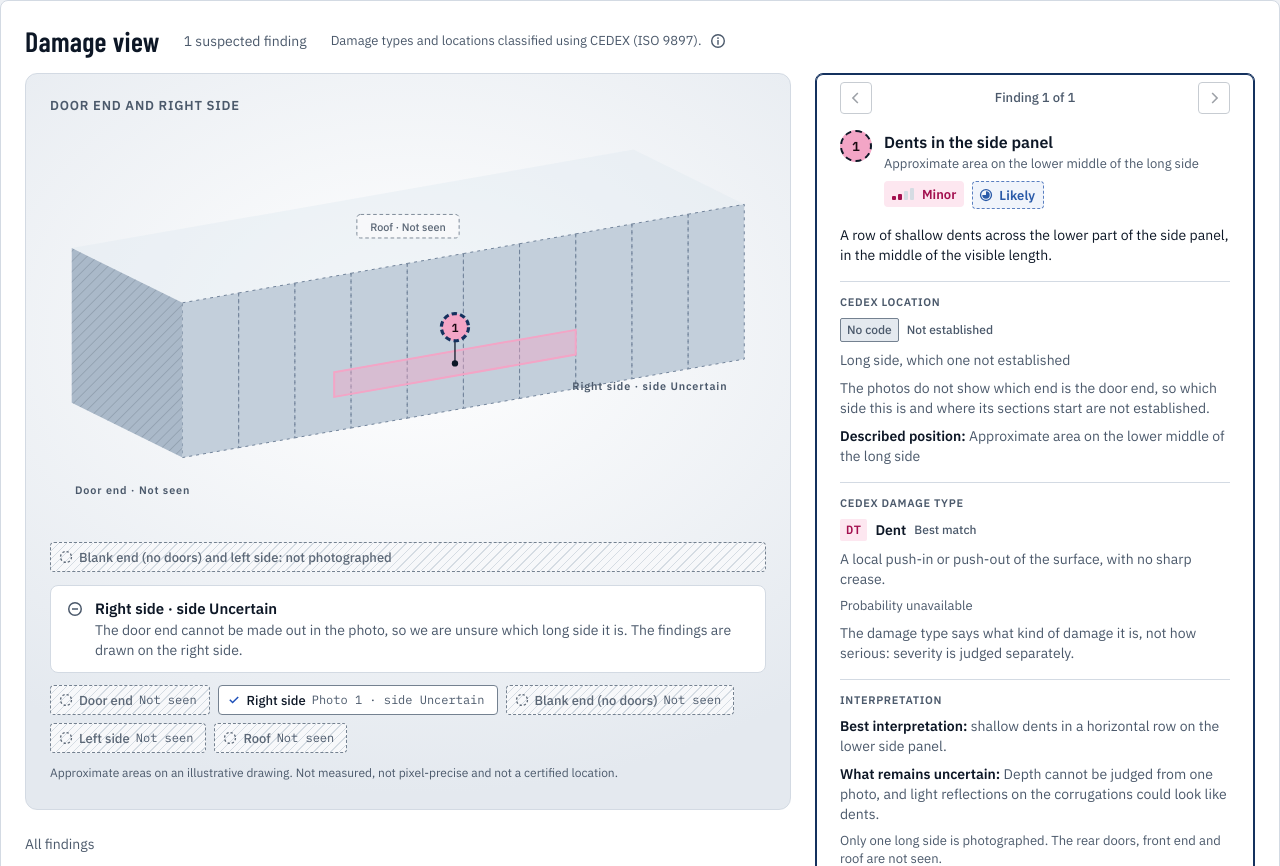
Scenario: DamageView schematic › names CEDEX near the findings count, with an explanation behind the info button
This screenshot has width=1280, height=866.
Expected: the element with class "rs-damage__head" shows "Damage types and locations classified using CEDEX (ISO 9897).", [331,32,702,49]
Click the button named "About CEDEX": (718, 41) [706,29,730,53]
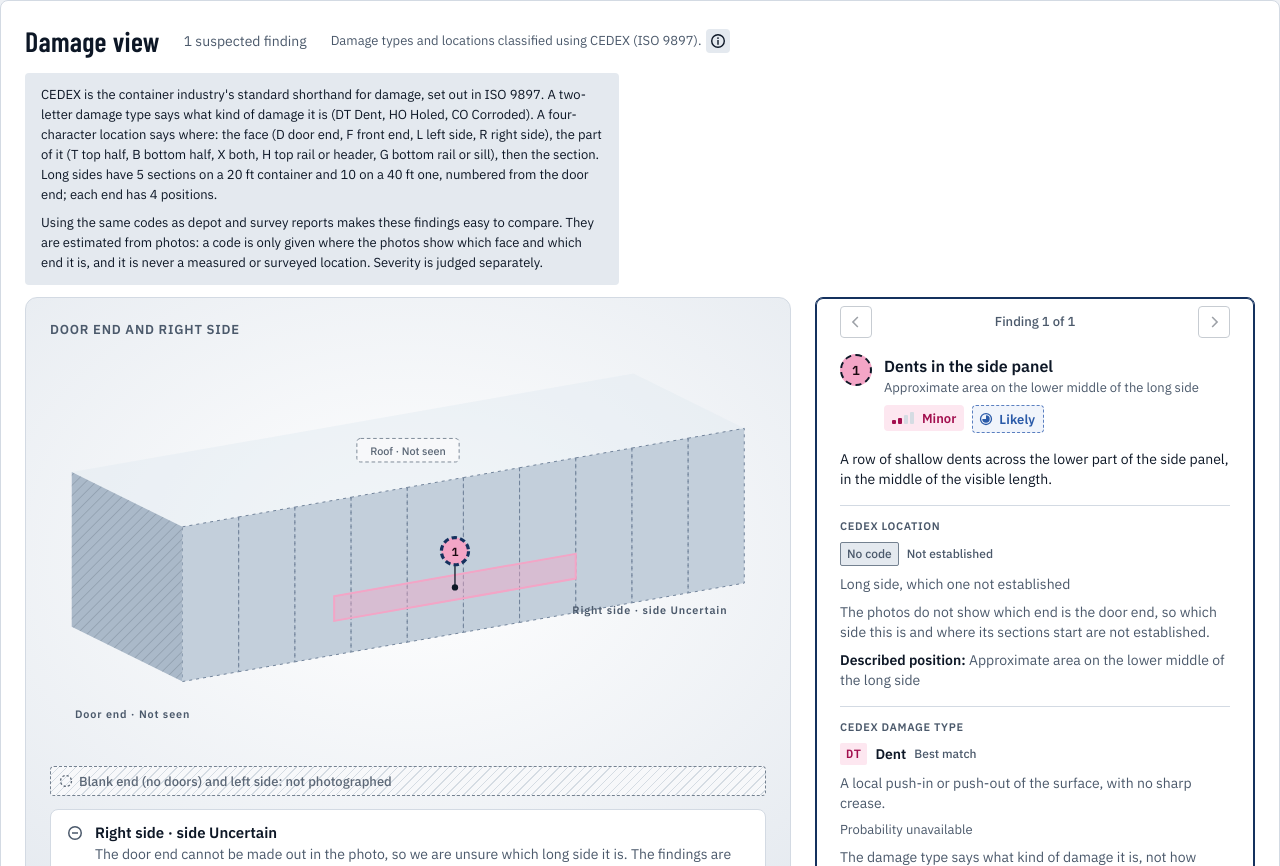
Now the button named "About CEDEX" is expanded, box [706,29,730,53]
Now the element with id "cedex-about" shows "ISO 9897", box [41,86,602,203]
